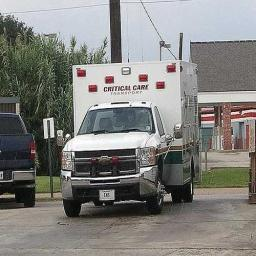Ambulance: (61, 60, 198, 216)
